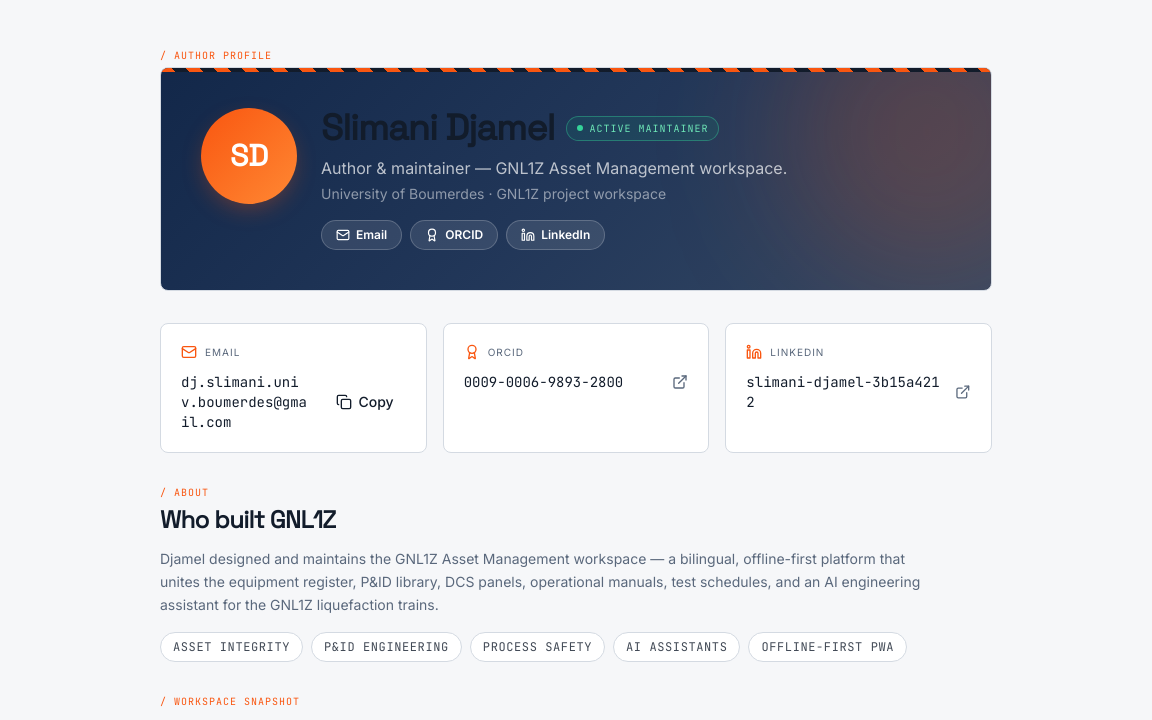
it: Author profile page › copies the email with a status announcement
The image size is (1152, 720).
Click the button "Copy": click(365, 402) top-left (324, 384), bottom-right (406, 420)
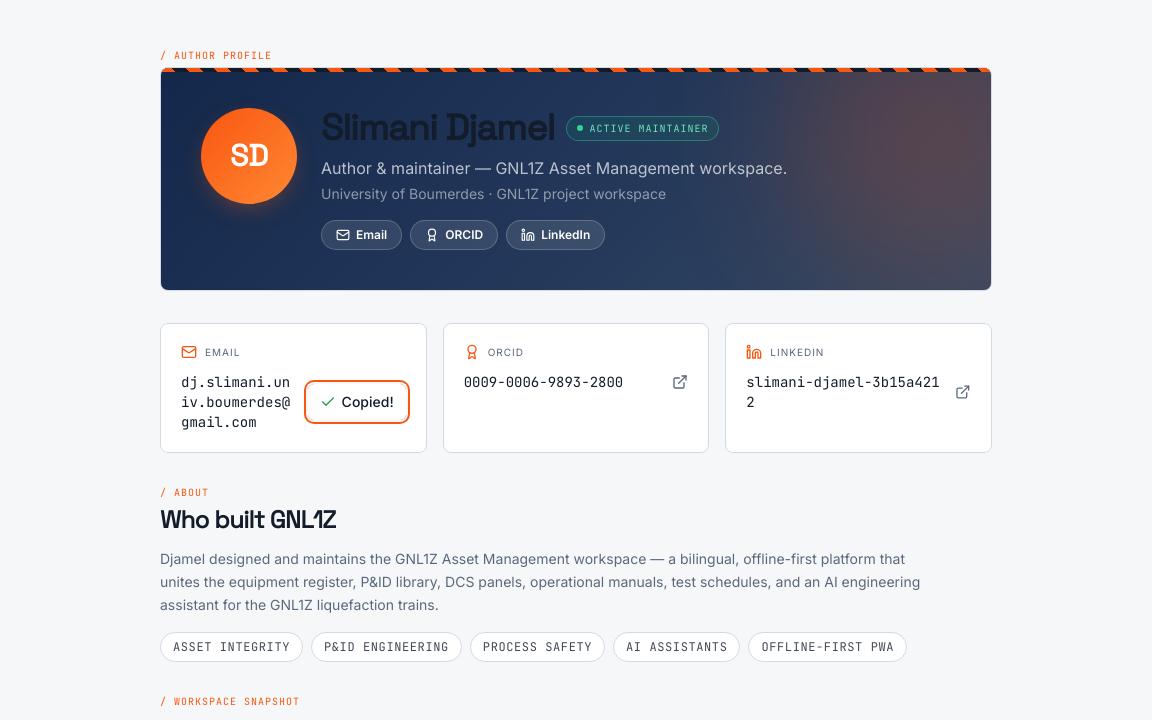
Expected: the button named "Copy" reads "Copied!", top-left (308, 384), bottom-right (406, 420)
